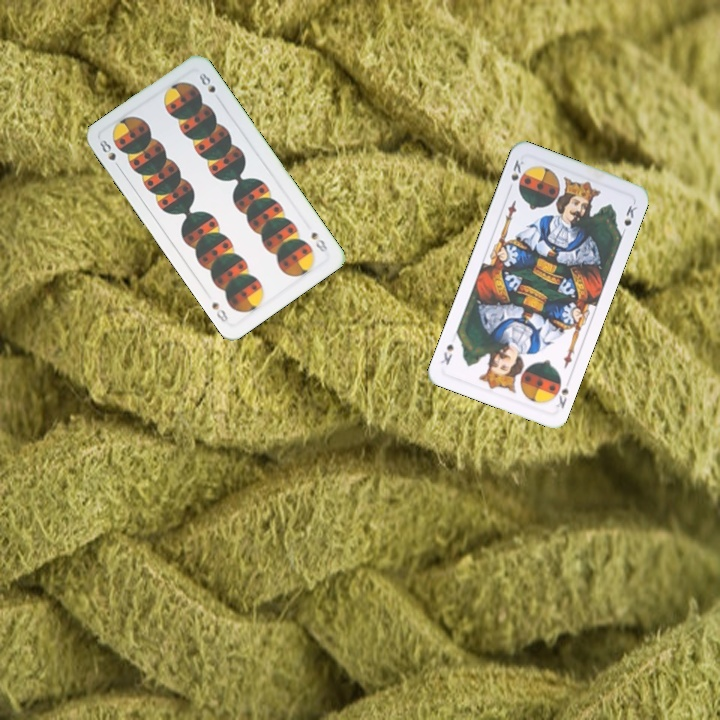S8: (93, 135, 124, 172), (307, 228, 330, 255)
SK: (504, 155, 527, 194), (552, 384, 571, 411)
